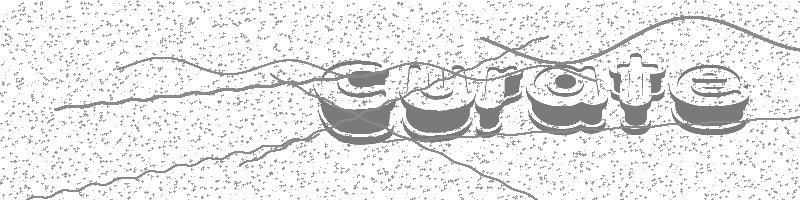a: (526, 64, 608, 135)
c: (314, 60, 395, 144)
e: (669, 65, 749, 135)
r: (476, 67, 524, 138)
t: (609, 53, 666, 134)
u: (400, 63, 477, 142)
